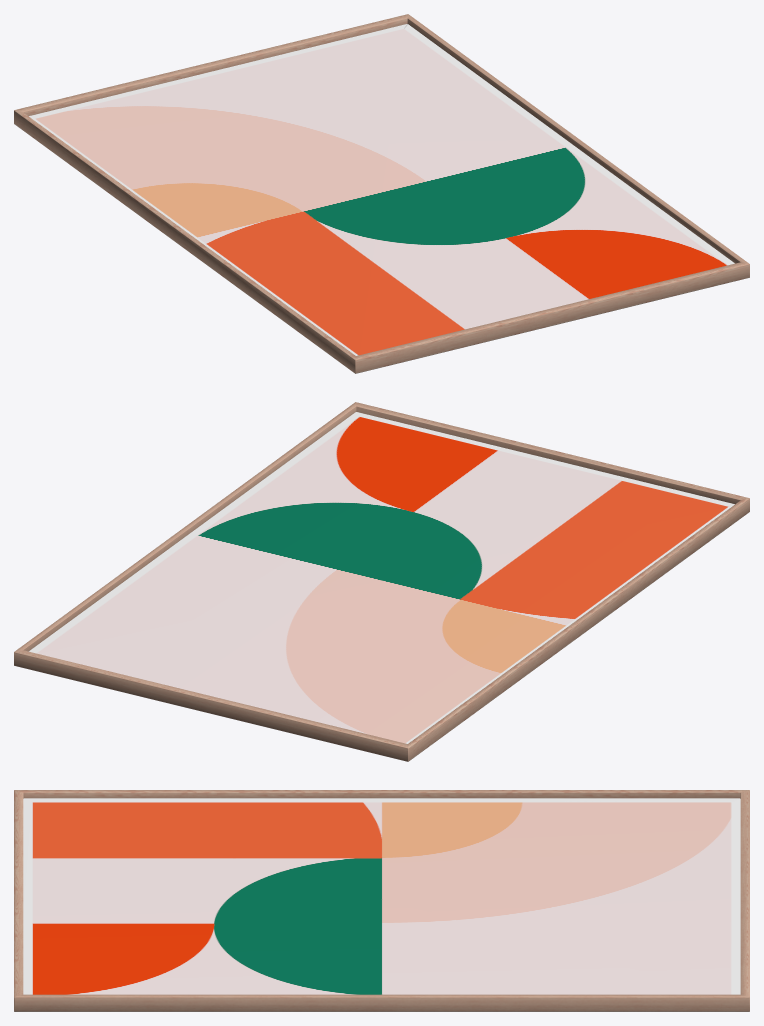
Rendered from posterframe.gltf.
3 views of the same model, one above another, from view 1: azimuth 30°, elevation 25°; view 2: azimuth 150°, elevation 25°; view 3: azimuth 270°, elevation 25° (orthographic). The views are drawn at different scales.
Parts seen in each view (by area): view 1: posterframe; view 2: posterframe; view 3: posterframe.
Part boxes in pixels (x1=…): posterframe: x1=14, y1=14, x2=749, y2=373; posterframe: x1=14, y1=402, x2=749, y2=761; posterframe: x1=14, y1=790, x2=749, y2=1011.
Size of the model in its own units: 0.6 by 0.02 by 0.9.
Materials: 1 (1 with a texture image).
